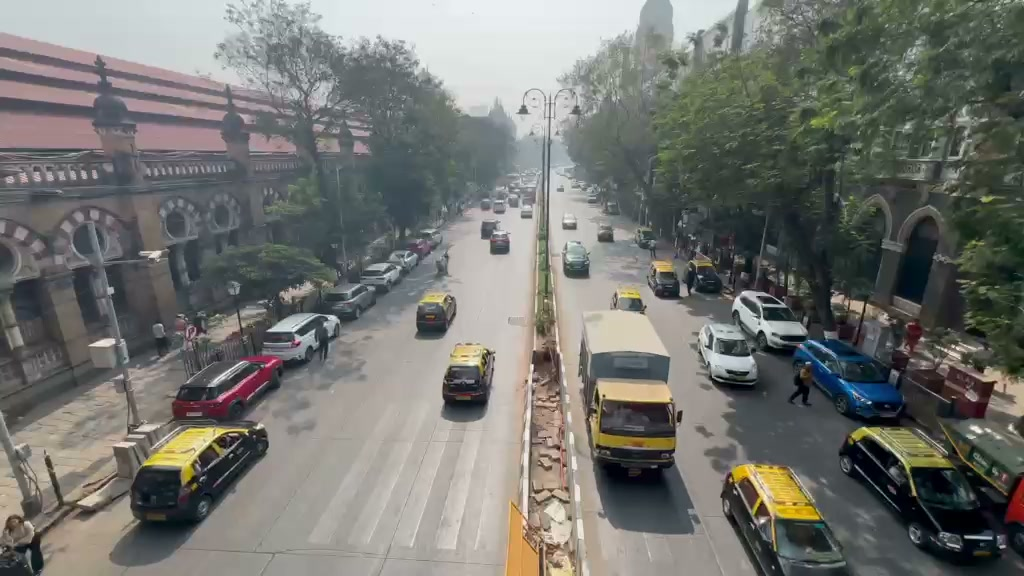car: (837, 422, 1006, 564), (719, 462, 853, 575), (129, 422, 270, 524), (790, 336, 907, 423), (171, 353, 283, 421), (730, 290, 810, 352), (261, 311, 340, 367), (696, 320, 760, 387), (441, 342, 496, 404), (314, 281, 377, 321), (415, 289, 457, 337), (359, 262, 403, 293), (562, 241, 592, 277), (691, 269, 723, 294), (387, 249, 419, 271), (407, 233, 436, 257), (488, 228, 511, 255)
pedestrian: (788, 365, 813, 406)
truck: (578, 308, 681, 476)
